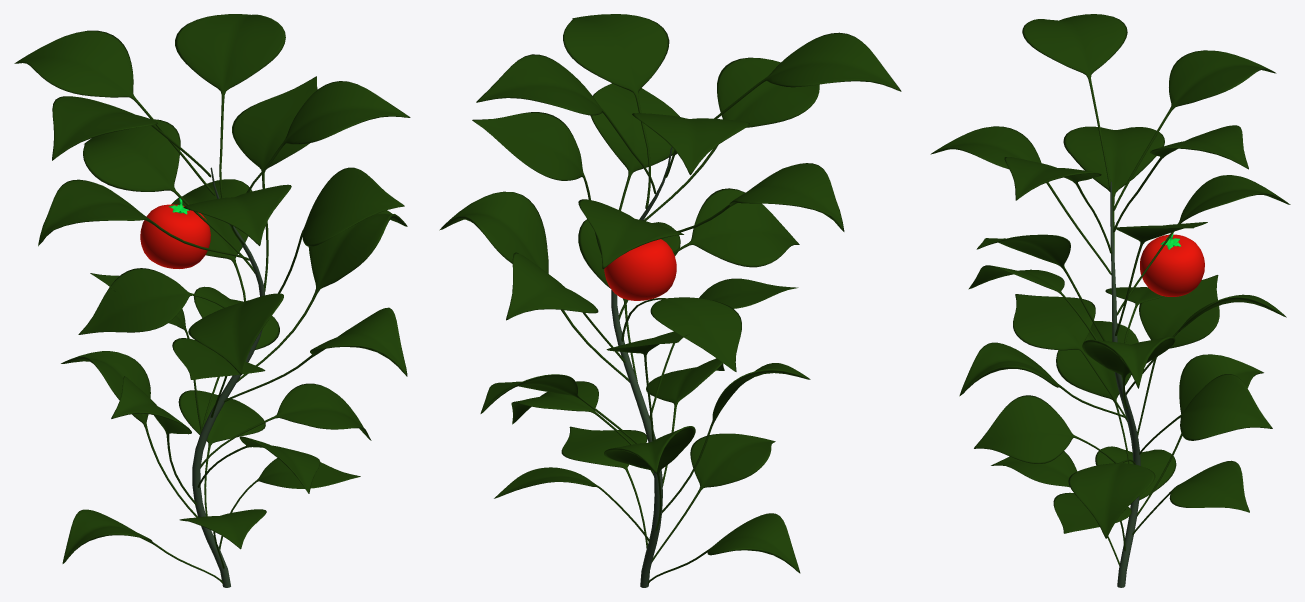
Rendered from Plants.fbx.
3 views of the same model, side by side, from view 1: azimuth 30°, elevation 25°; view 2: azimuth 150°, elevation 25°; view 3: azimuth 270°, elevation 25° (orthographic). The views are drawn at different scales.
Visible parts, largest first — view 1: Leaves, Tomato, PlantStem; view 2: Leaves, Tomato, PlantStem; view 3: Leaves, Tomato, PlantStem.
Part boxes in pixels (x1=…): Leaves: x1=14, y1=14, x2=410, y2=583; Tomato: x1=140, y1=198, x2=210, y2=268; PlantStem: x1=192, y1=167, x2=264, y2=587; Leaves: x1=439, y1=14, x2=901, y2=583; Tomato: x1=604, y1=239, x2=676, y2=300; PlantStem: x1=611, y1=147, x2=672, y2=587; Leaves: x1=930, y1=14, x2=1290, y2=565; Tomato: x1=1140, y1=233, x2=1204, y2=296; PlantStem: x1=1110, y1=181, x2=1140, y2=587.
Bounding box in the file's own units: 1314 × 1663 × 1104.
